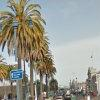Palm tree: (2, 2, 58, 74)
